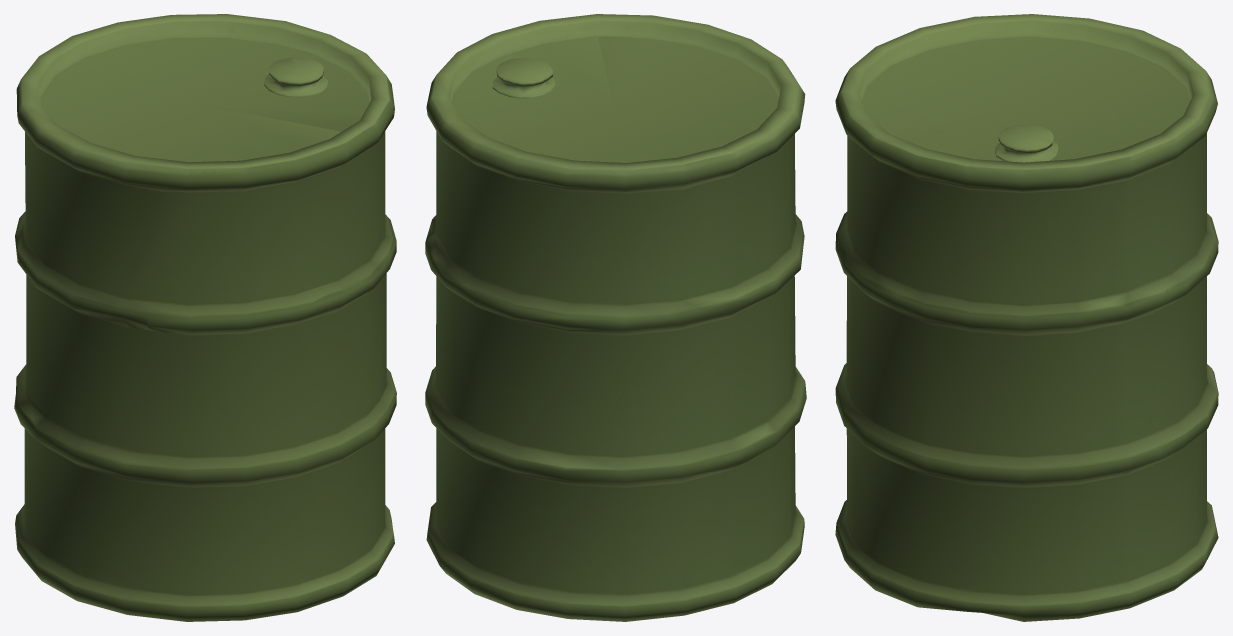
Rendered from barrel.glb.
The picture shows the model from 3 angles, left to right: view 1: azimuth 30°, elevation 25°; view 2: azimuth 150°, elevation 25°; view 3: azimuth 270°, elevation 25°; orthographic projection.
Bounding box in the file's own units: 0.7261 × 0.9502 × 0.7295.
1 material, 1 textured.
